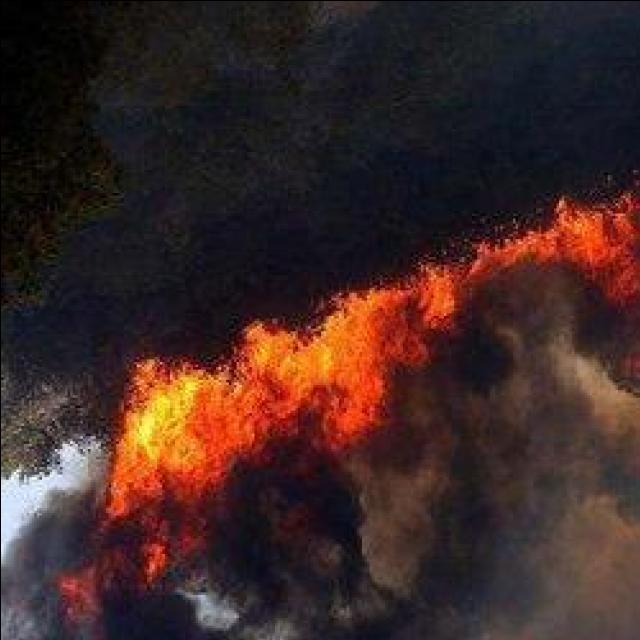fire: (132, 378, 198, 456), (286, 336, 344, 384), (187, 386, 240, 438), (331, 294, 371, 360), (565, 215, 601, 256)
smoke: (433, 326, 553, 504), (402, 518, 582, 636), (196, 540, 364, 636), (344, 451, 444, 595), (0, 491, 91, 640), (543, 411, 640, 542), (38, 579, 216, 639), (556, 304, 640, 398), (252, 462, 326, 568), (108, 511, 182, 588)
